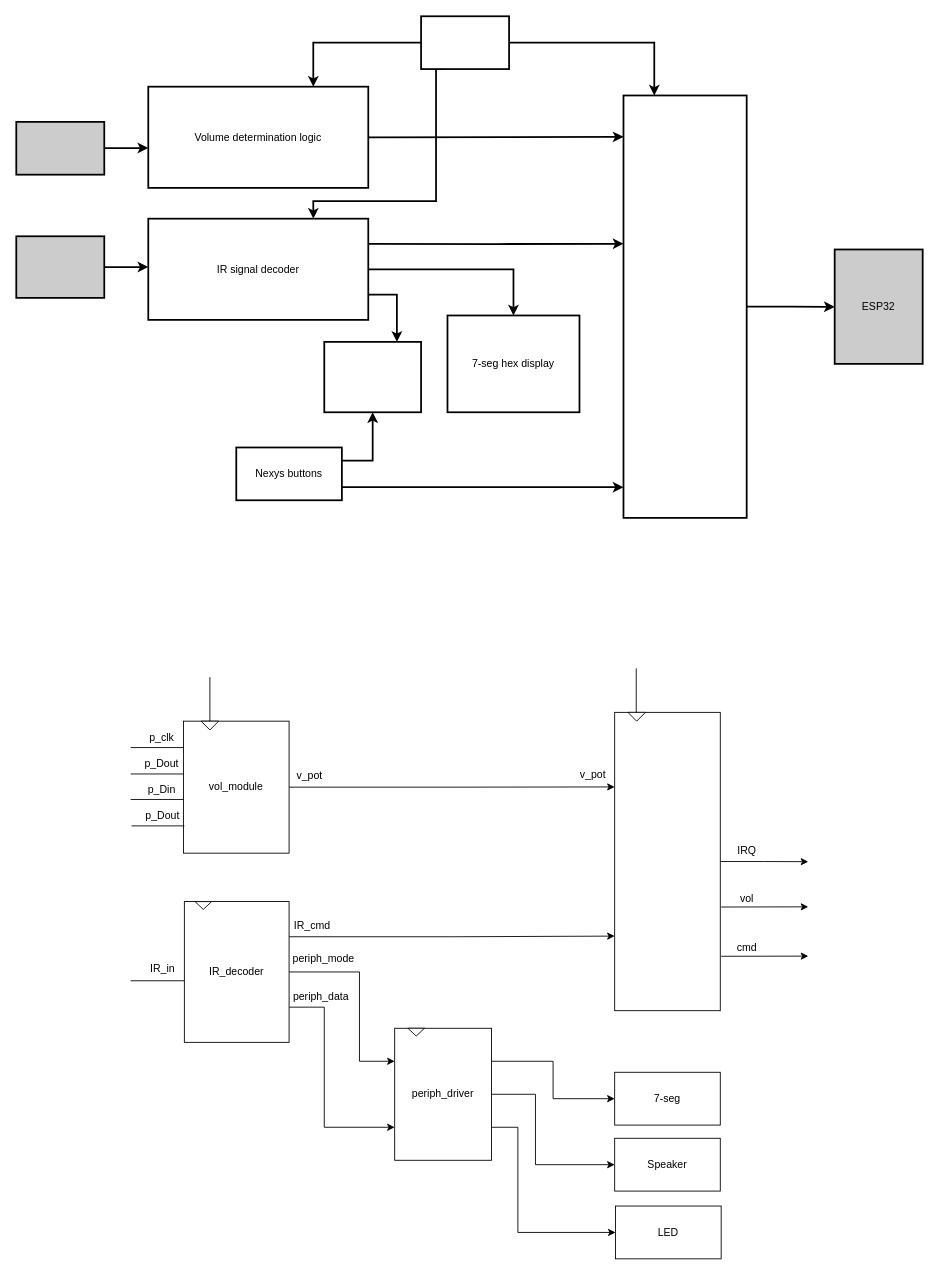
This 938x1274 diagram has some shape labels left out. The shapes that lost their labels are listed below. From the top down, each one's box as (x1, y1, x2, y2) in pixels, then its label:
(420, 15, 510, 70): clk_tree
(15, 121, 105, 175): Potentiometer
(15, 235, 105, 298): IR Sensor
(622, 94, 747, 518): Command generation
(323, 341, 422, 413): Nexys speaker
(614, 711, 720, 1011): cmd_gen
